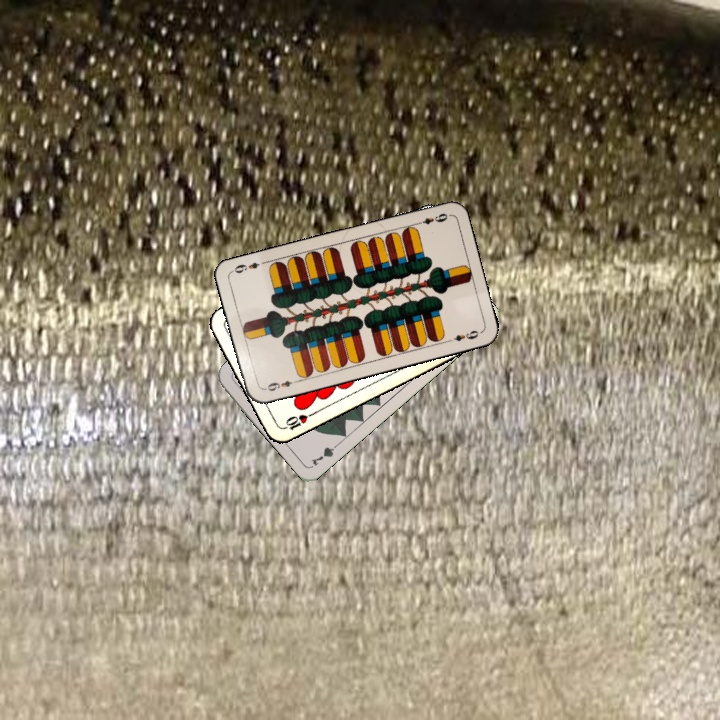E9: (411, 209, 450, 228), (260, 376, 300, 394)
G7: (307, 438, 343, 469)
H10: (278, 409, 316, 433)
